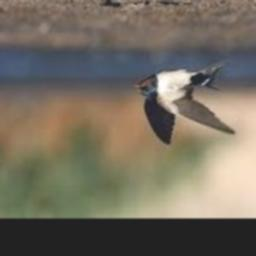Swallow: (134, 60, 235, 145)
